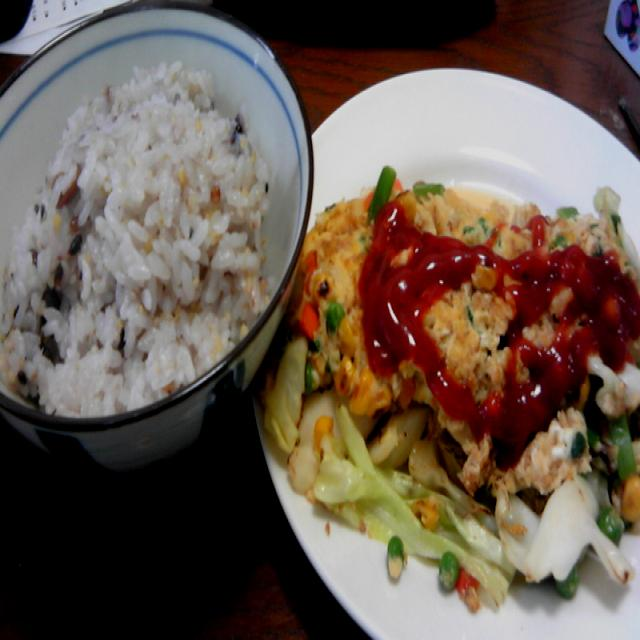rice: (25, 93, 236, 380)
